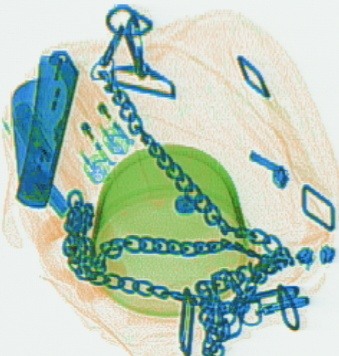knife: (12, 49, 80, 208)
lighter: (38, 67, 115, 185), (55, 60, 132, 158)
